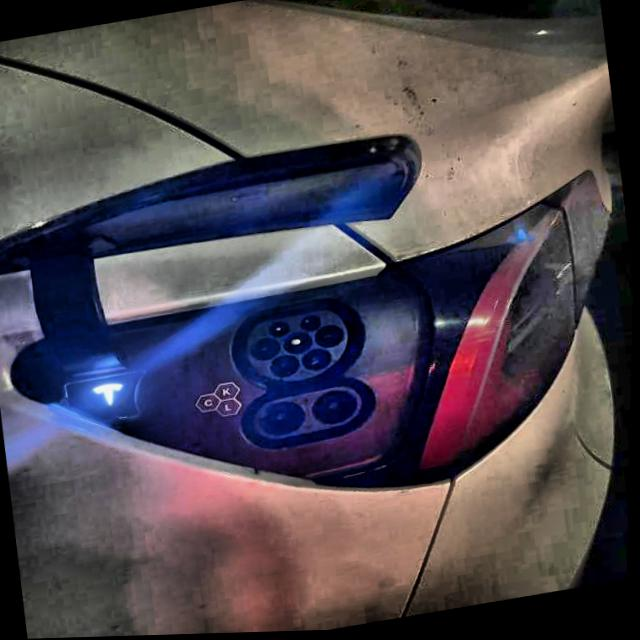inlet: (248, 312, 349, 383)
inlet-above-left: (271, 323, 291, 339)
inlet-above-right: (302, 317, 323, 333)
inlet-below-left: (272, 357, 302, 379)
inlet-below-right: (303, 350, 334, 373)
inlet-center: (284, 334, 315, 356)
inlet-center-left: (253, 340, 283, 362)
inlet-center-right: (316, 327, 346, 350)
